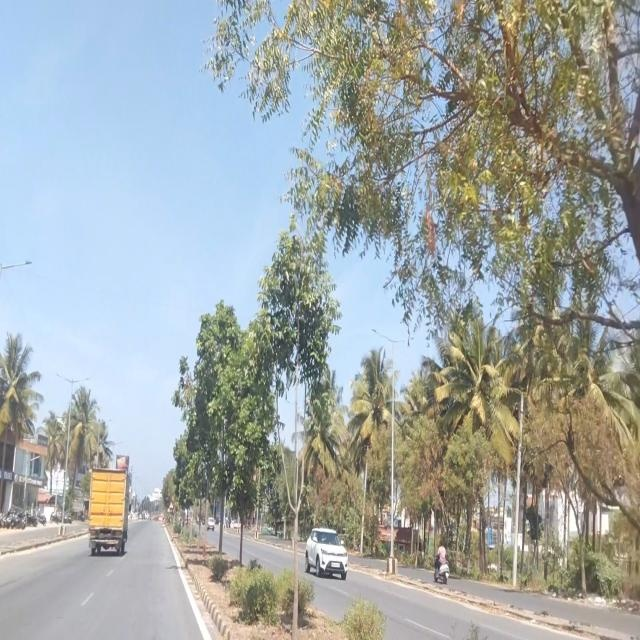bien_nguy_hiem: (167, 500, 174, 516)
